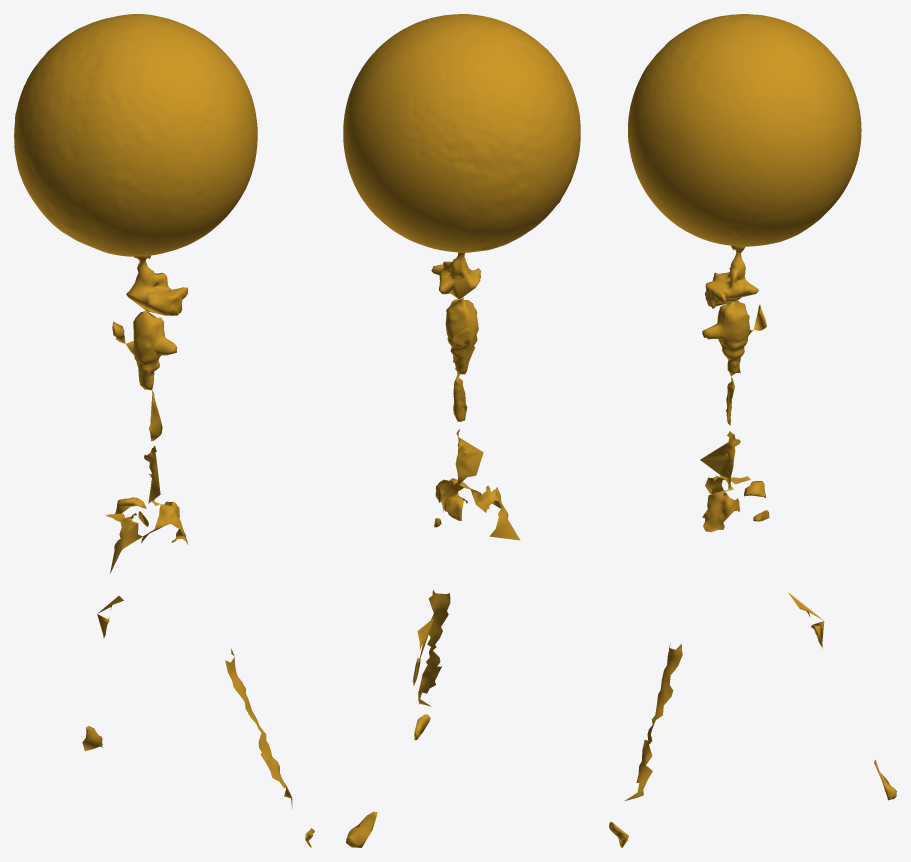
The model's file is Gridtest_1_2_0.000001.obj.
3 views of the same model, side by side, from view 1: azimuth 30°, elevation 25°; view 2: azimuth 150°, elevation 25°; view 3: azimuth 270°, elevation 25° (orthographic). The views are drawn at different scales.
Parts seen in each view (by area): view 1: ./Gridtest_1_2_0.000001; view 2: ./Gridtest_1_2_0.000001; view 3: ./Gridtest_1_2_0.000001.
Boxes of the visible parts, x1,y1,x2,y2 form: ./Gridtest_1_2_0.000001: (14, 14, 314, 847); ./Gridtest_1_2_0.000001: (343, 14, 580, 847); ./Gridtest_1_2_0.000001: (609, 14, 896, 847).
Bounding box in the file's own units: 309 × 1088 × 369.
